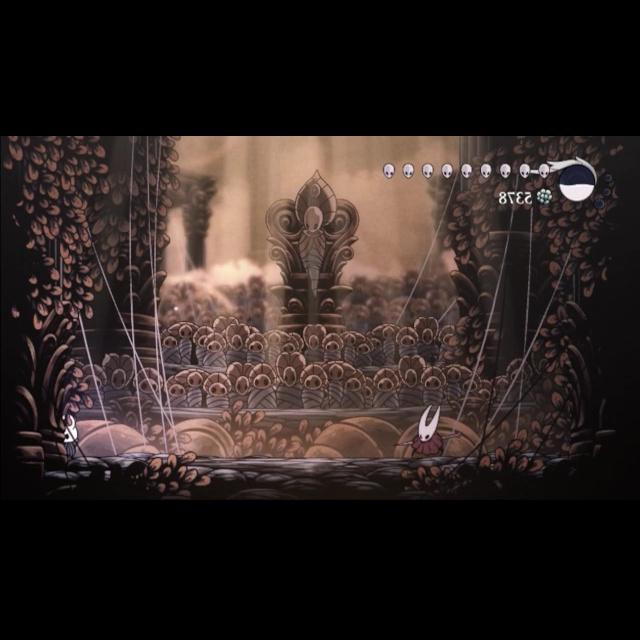EnemyLeadIn: (394, 401, 464, 462)
Player: (54, 410, 84, 460)
